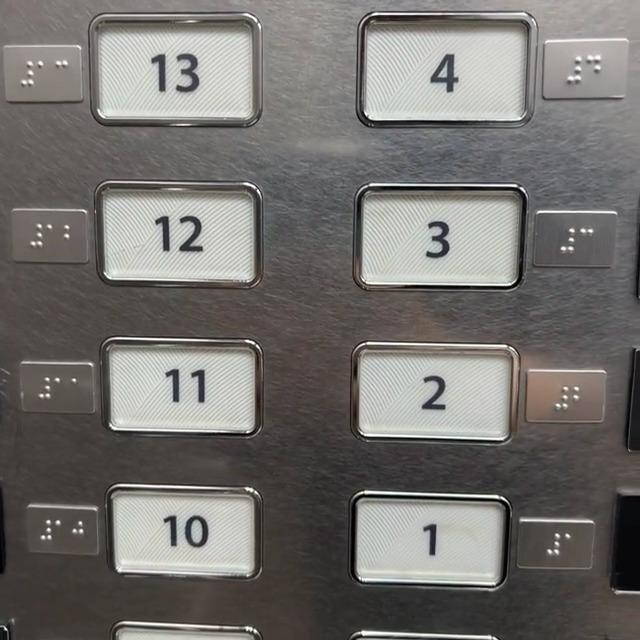button: (90, 13, 261, 130), (362, 13, 535, 128), (97, 178, 267, 295), (358, 180, 525, 296), (353, 337, 518, 447), (104, 338, 262, 443), (355, 485, 507, 592), (107, 483, 267, 583)
